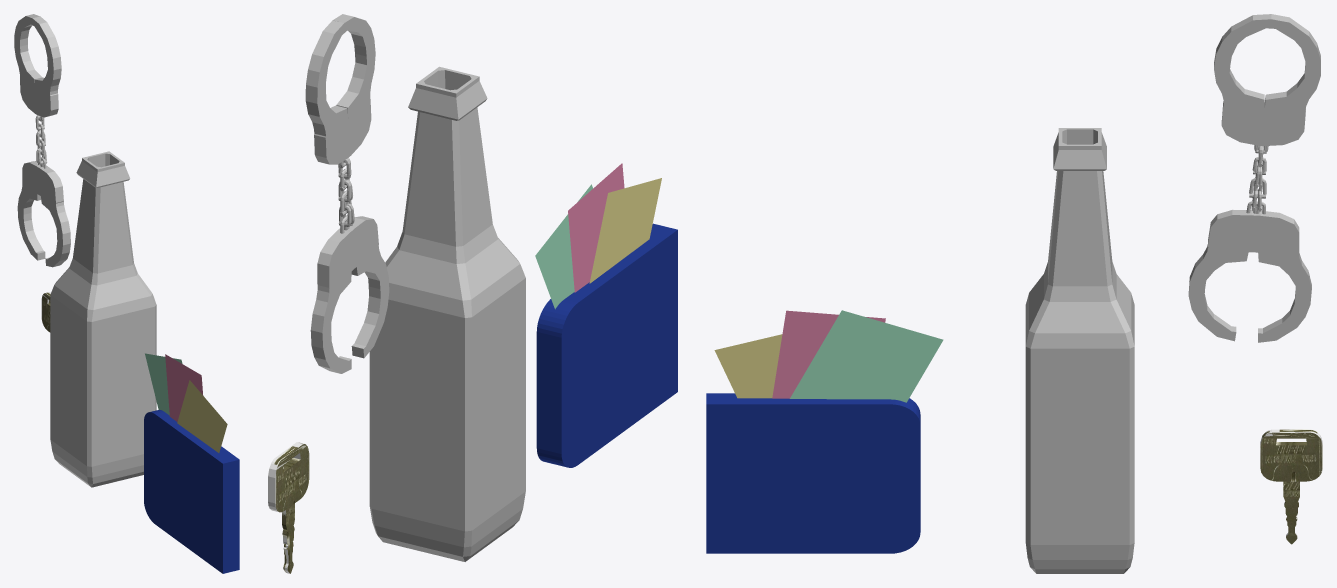
Rendered from scale_puzzle_textured.fbx.
The picture shows the model from 3 angles, left to right: view 1: azimuth 30°, elevation 25°; view 2: azimuth 150°, elevation 25°; view 3: azimuth 270°, elevation 25°; orthographic projection. The views are drawn at different scales.
Visible parts, largest first — view 1: Bottle, Cube, Handcuffs.001, Plane.002, Plane.001, Plane, Key; view 2: Bottle, Cube, Handcuffs.001, Plane.002, Plane.001, Key, Plane; view 3: Bottle, Cube, Handcuffs.001, Plane, Key, Plane.001, Plane.002.
Boxes of the visible parts, x1=… form: Bottle: x1=50, y1=151, x2=156, y2=487; Cube: x1=144, y1=410, x2=239, y2=573; Handcuffs.001: x1=14, y1=14, x2=70, y2=267; Plane.002: x1=177, y1=380, x2=227, y2=452; Plane.001: x1=165, y1=354, x2=203, y2=421; Plane: x1=145, y1=353, x2=182, y2=415; Key: x1=41, y1=292, x2=50, y2=332; Bottle: x1=369, y1=66, x2=525, y2=561; Cube: x1=536, y1=223, x2=677, y2=467; Handcuffs.001: x1=305, y1=14, x2=389, y2=373; Plane.002: x1=589, y1=178, x2=661, y2=283; Plane.001: x1=568, y1=163, x2=624, y2=292; Key: x1=268, y1=442, x2=309, y2=573; Plane: x1=535, y1=184, x2=592, y2=309; Bottle: x1=1025, y1=128, x2=1134, y2=573; Cube: x1=706, y1=393, x2=920, y2=553; Handcuffs.001: x1=1188, y1=14, x2=1320, y2=342; Plane: x1=790, y1=310, x2=943, y2=402; Key: x1=1260, y1=429, x2=1322, y2=544; Plane.001: x1=772, y1=310, x2=885, y2=398; Plane.002: x1=714, y1=334, x2=782, y2=398.
Bounding box in the file's own units: 46.97 × 258 × 266.
